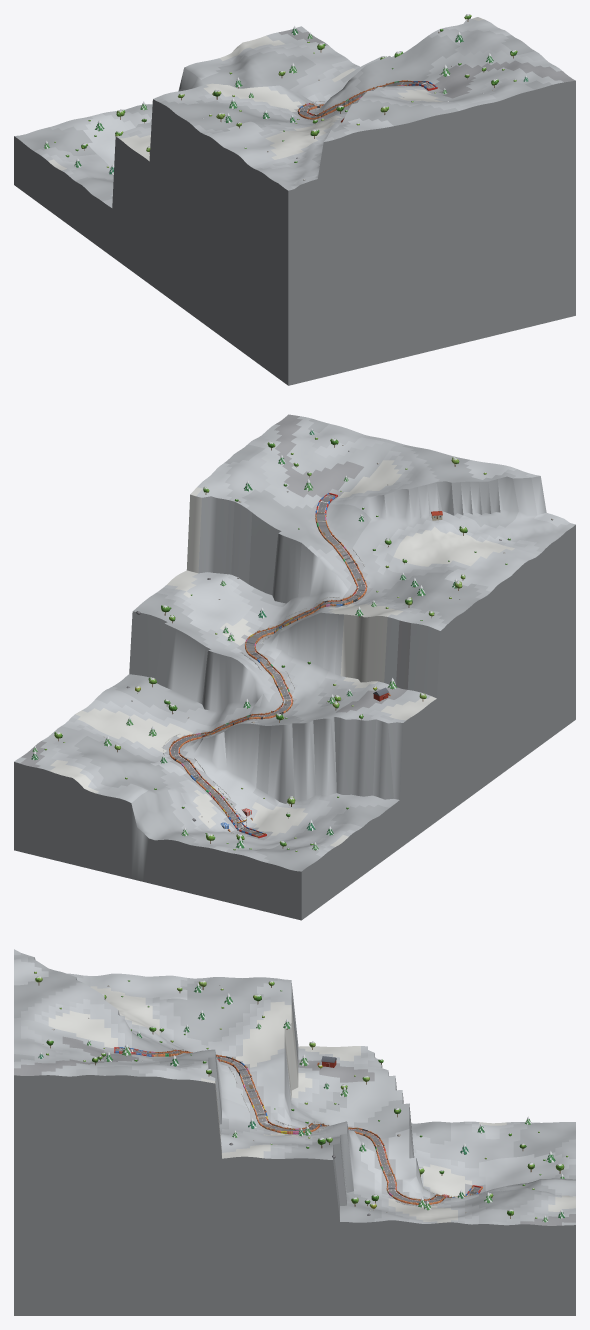
3 renders of one model, top to bottom at view 1: azimuth 30°, elevation 25°; view 2: azimuth 150°, elevation 25°; view 3: azimuth 270°, elevation 25°, orthographic. The views are drawn at different scales.
Visible parts, largest first — view 1: grass, pines, leafy trees, hay; view 2: grass, road, hay, pines, leafy trees; view 3: grass, road, hay, pines, leafy trees.
Boxes of the visible parts, box(x1,y1,x2,y2) form: grass: box(14, 17, 575, 385); pines: box(43, 26, 528, 174); leafy trees: box(81, 14, 517, 151); hay: box(297, 80, 437, 119); grass: box(14, 414, 575, 920); road: box(170, 494, 366, 836); hay: box(169, 493, 367, 838); pines: box(31, 428, 457, 850); leafy trees: box(54, 438, 467, 846); grass: box(14, 949, 575, 1315); road: box(115, 1048, 480, 1203); hay: box(114, 1047, 482, 1204); pines: box(38, 982, 564, 1222); leafy trees: box(35, 976, 564, 1215).
Size of the model in its own units: 245 by 199 by 405.
